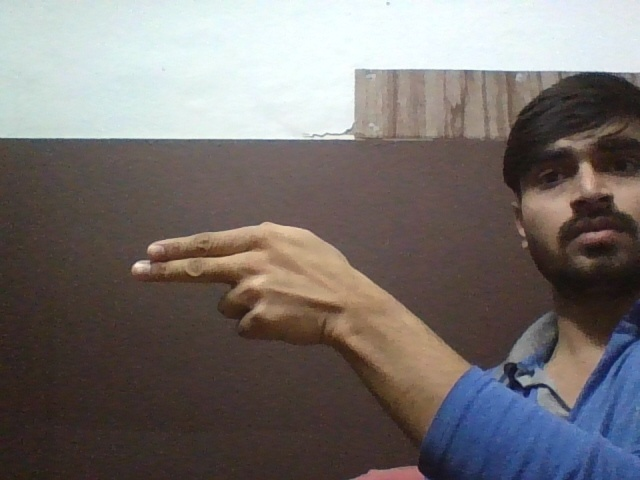H: (109, 219, 356, 361)
